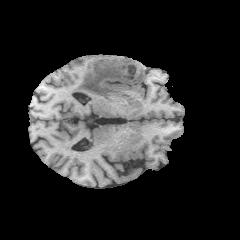glioma: (73, 56, 144, 99)
